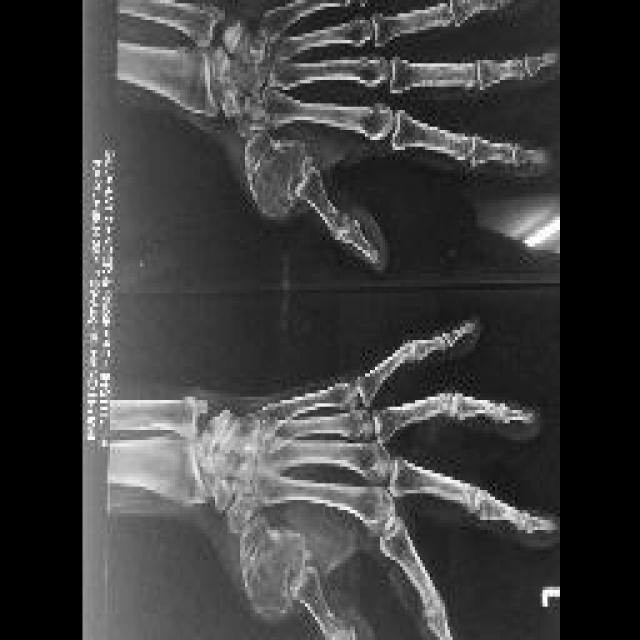bone-cancer: (240, 510, 310, 622), (249, 125, 310, 218)
